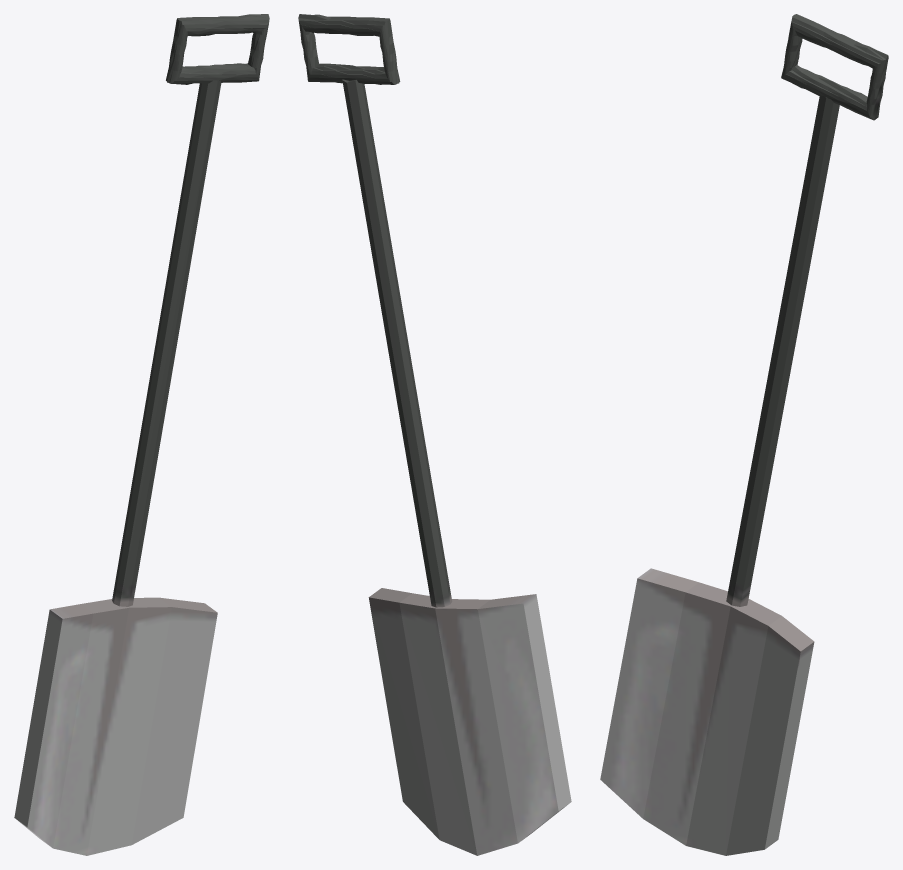
File: Shovel.glb
3 renders of one model, left to right at view 1: azimuth 30°, elevation 25°; view 2: azimuth 150°, elevation 25°; view 3: azimuth 330°, elevation 25°, orthographic. The views are drawn at different scales.
Parts seen in each view (by area): view 1: Shovel; view 2: Shovel; view 3: Shovel.
Boxes of the visible parts, x1=… form: Shovel: x1=14, y1=14, x2=269, y2=855; Shovel: x1=298, y1=14, x2=571, y2=855; Shovel: x1=600, y1=14, x2=888, y2=855.
Bounding box in the file's own units: 196 × 589 × 31.71.
Materials: 1 (1 with a texture image).
